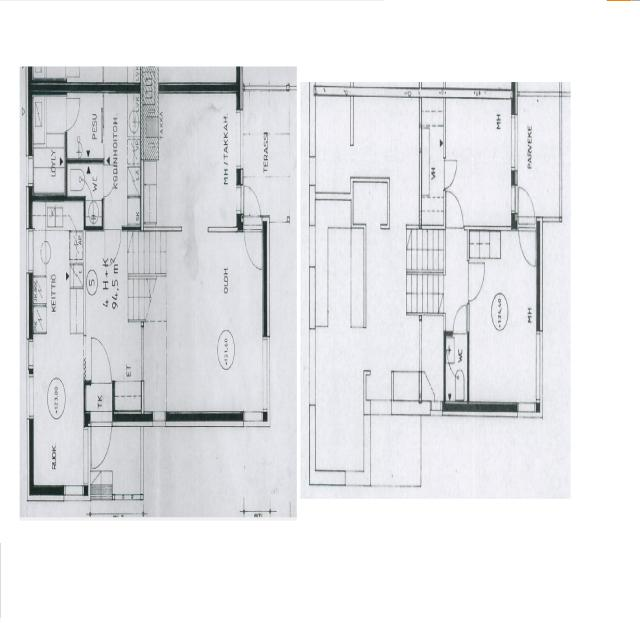door: (91, 412, 111, 471), (243, 215, 261, 271), (91, 336, 111, 385), (244, 176, 261, 232), (519, 216, 535, 269), (519, 179, 535, 231), (467, 263, 486, 301), (447, 189, 463, 231), (105, 226, 121, 267), (64, 98, 82, 130), (102, 165, 118, 197), (453, 301, 466, 337), (443, 160, 458, 188)
